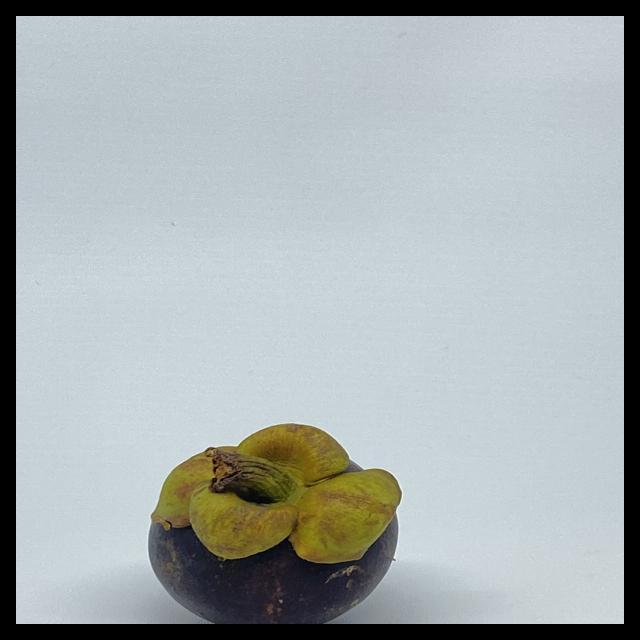mangosteen: (127, 414, 433, 624)
